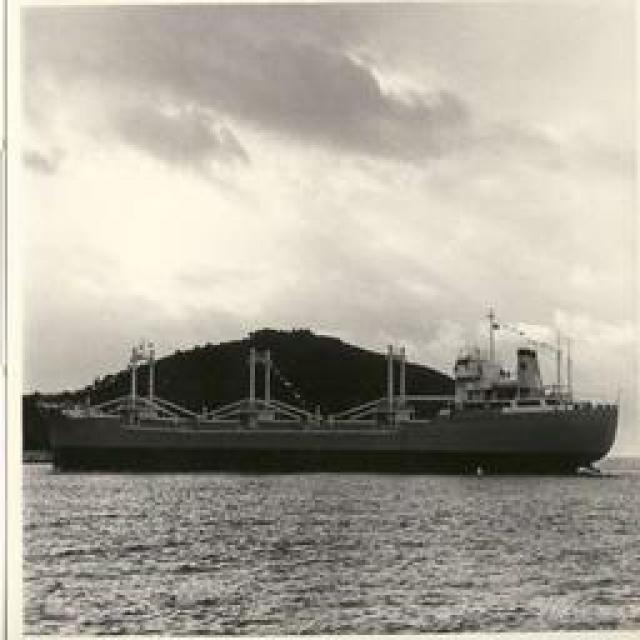Ship: (34, 315, 627, 475)
